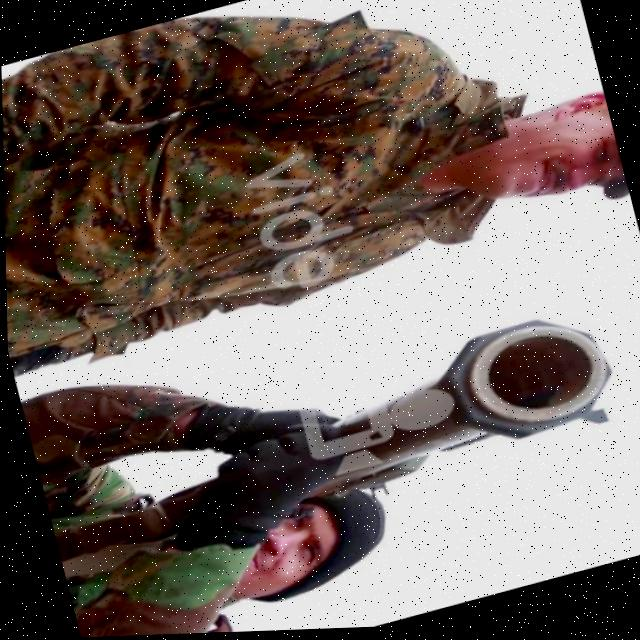rocket: (287, 303, 632, 501)
